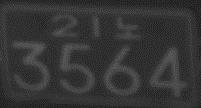1: (84, 13, 107, 38)
2: (50, 12, 81, 39)
3: (11, 40, 51, 92)
4: (149, 45, 188, 98)
5: (57, 42, 95, 95)
6: (102, 43, 141, 97)
노: (114, 15, 139, 40)
